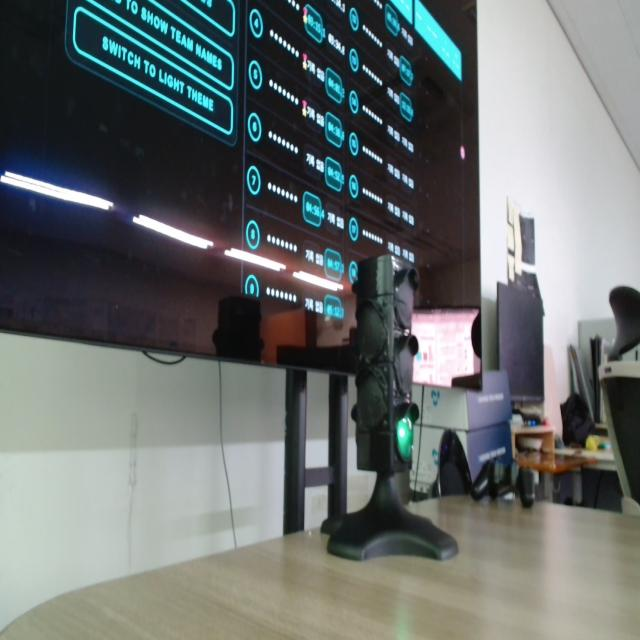green_light: (397, 418, 413, 461)
